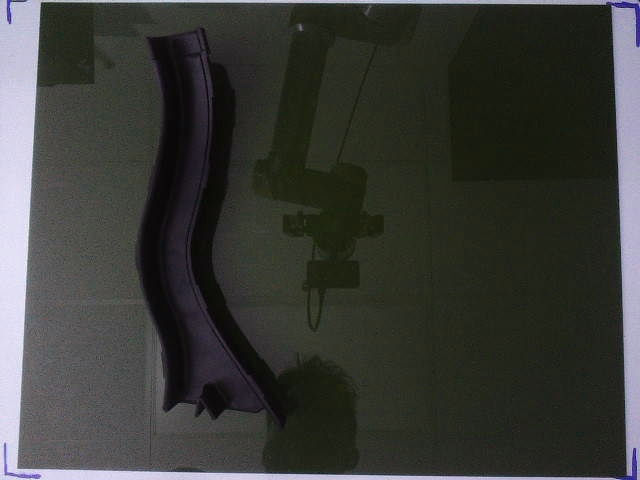887_B-Under: (135, 27, 284, 430)
